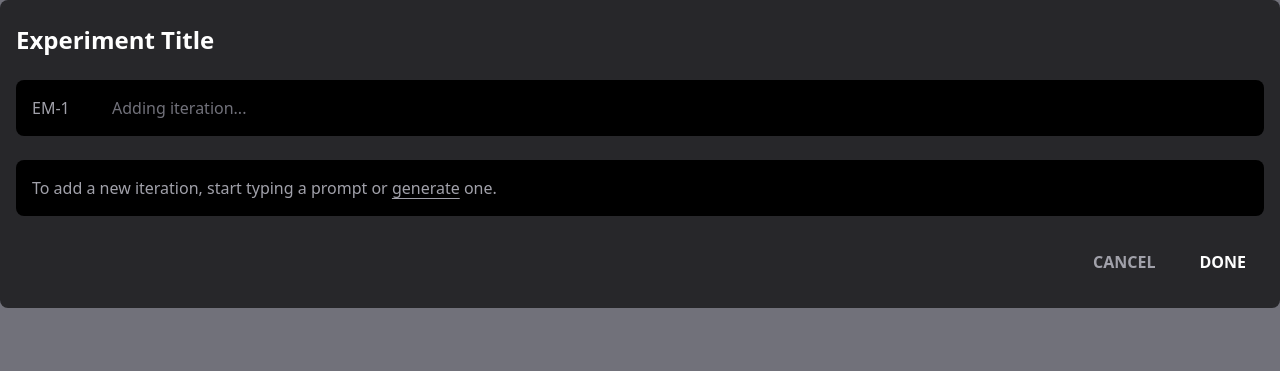
Scenario: ExperimentCard feature component › should renders generate iteration form when clicking generate link
What coordinates should you click on to do the following:
click the text "generate"
I would click on:
 (426, 188)
Its box is x1=392 y1=177 x2=460 y2=199.
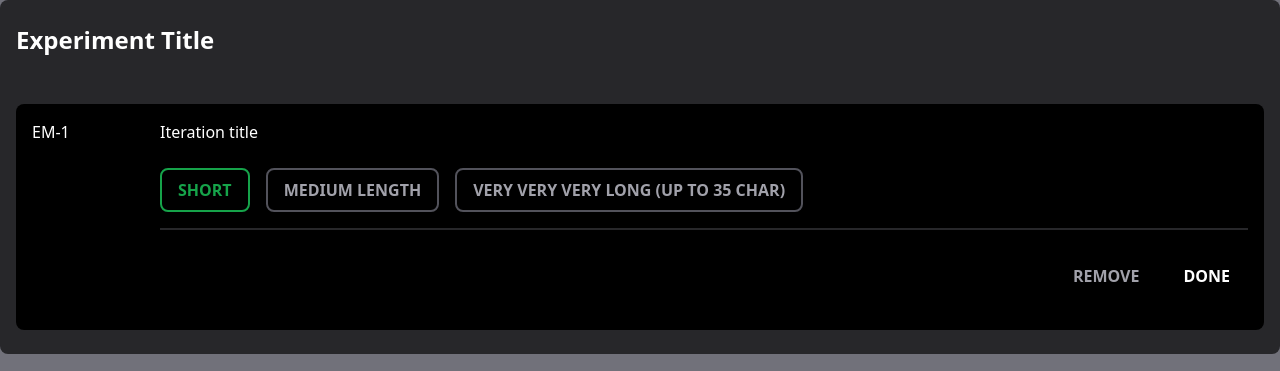
Check: the text "Iteration title" is shown, box x1=160 y1=121 x2=258 y2=143
Check: the button "SHORT" is shown, box x1=160 y1=168 x2=250 y2=212
